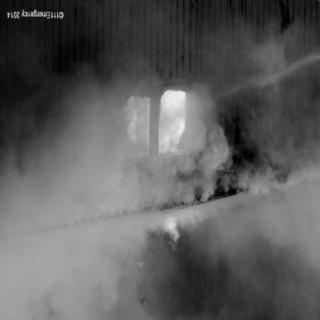Fire: (122, 78, 196, 180)
